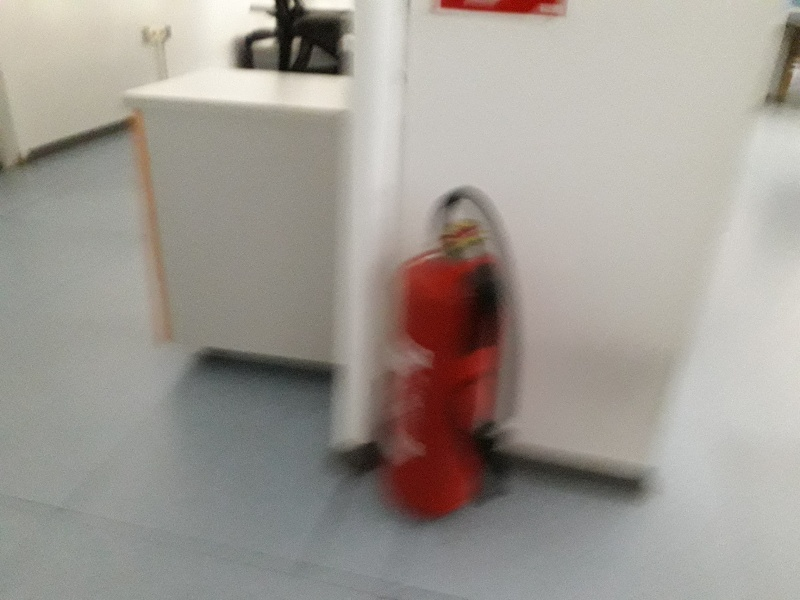vataparat: (381, 189, 519, 522)
